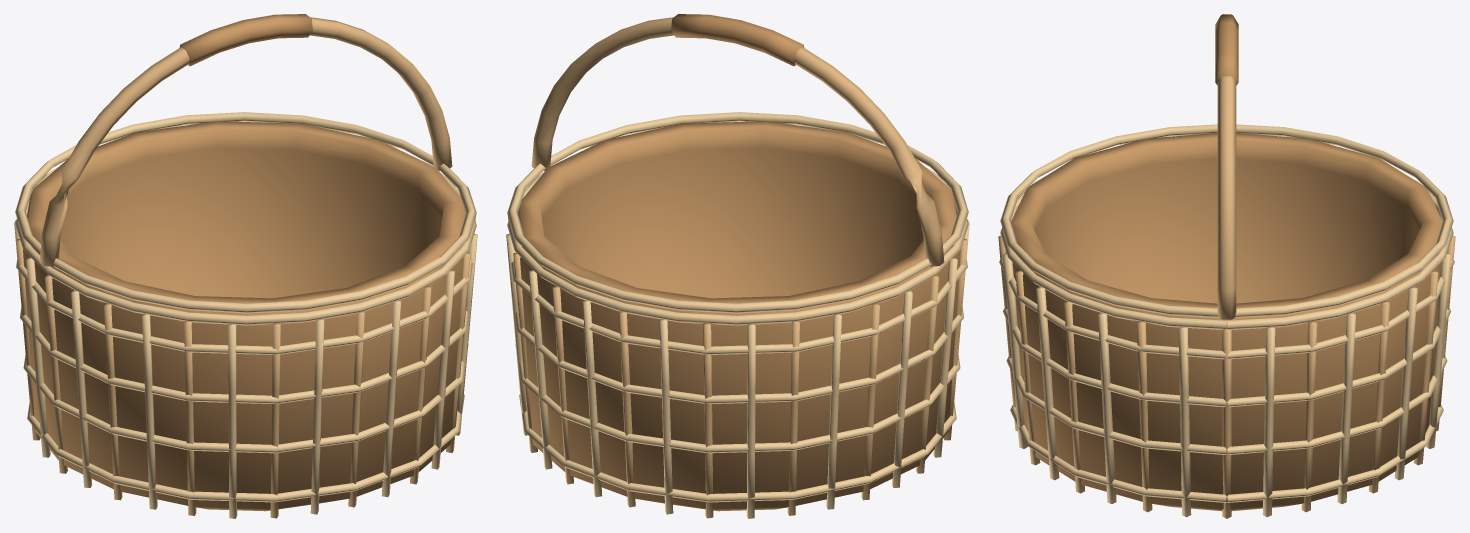
Rendered from panier_osier.glb.
The picture shows the model from 3 angles, left to right: view 1: azimuth 30°, elevation 25°; view 2: azimuth 150°, elevation 25°; view 3: azimuth 270°, elevation 25°; orthographic projection. The views are drawn at different scales.
Visible parts, largest first — view 1: panier_osier; view 2: panier_osier; view 3: panier_osier.
Boxes of the visible parts, x1,y1,x2,y2 form: panier_osier: (14, 14, 477, 518); panier_osier: (506, 14, 969, 518); panier_osier: (998, 14, 1455, 518).
Size of the model in its own units: 0.35 by 0.35 by 0.349.
